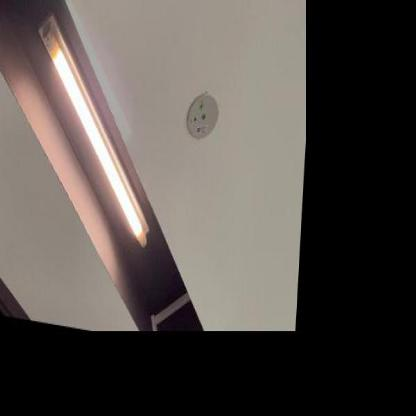light_on: (13, 0, 176, 262)
